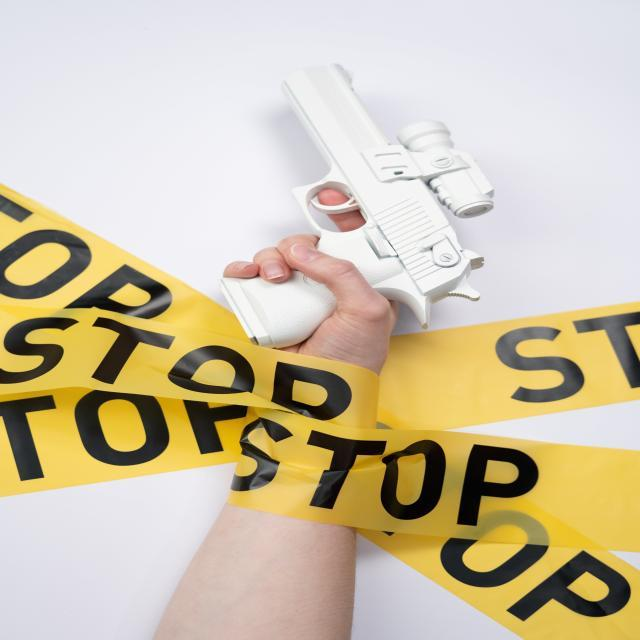Gun: (280, 64, 494, 330), (220, 271, 337, 349)
